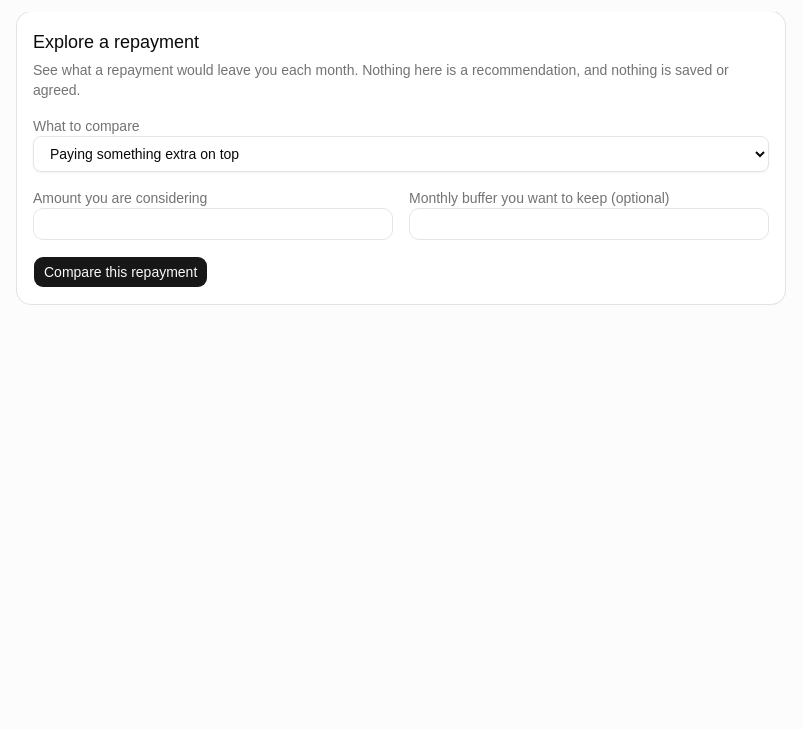
Test: RepaymentExplorer › shows the basis snapshot the comparison is made against
Type "100.00" into the field labelled "Amount you are considering" at (213, 224), box [33,208,393,240]
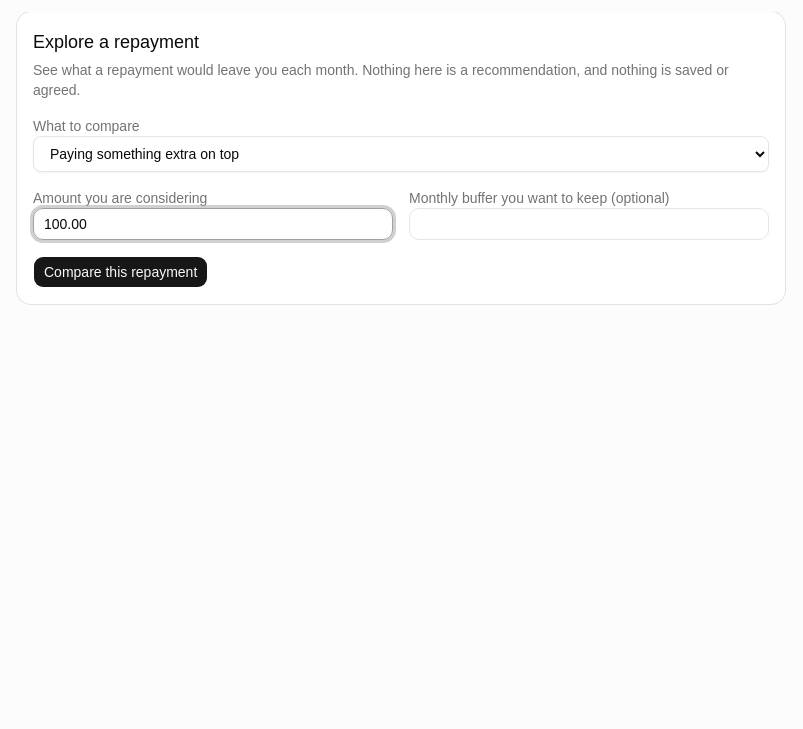
Click the button "Compare this repayment" at (121, 272), box [33,256,208,288]
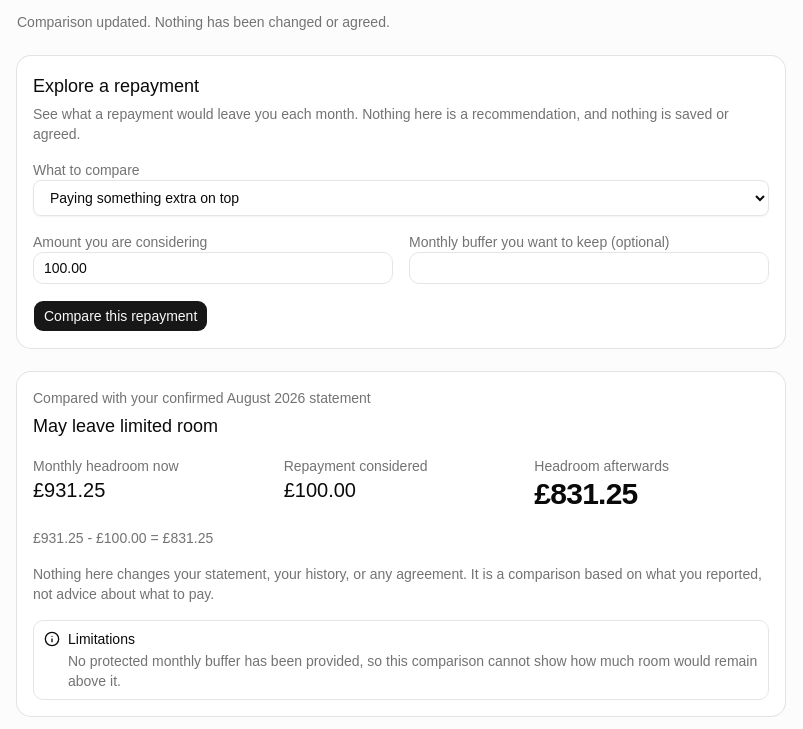
Check: the text "Compared with your confirmed August 2026 statement" is shown, box [33,390,371,406]
Check: the text "£931.25" is shown, box [33,479,105,501]
